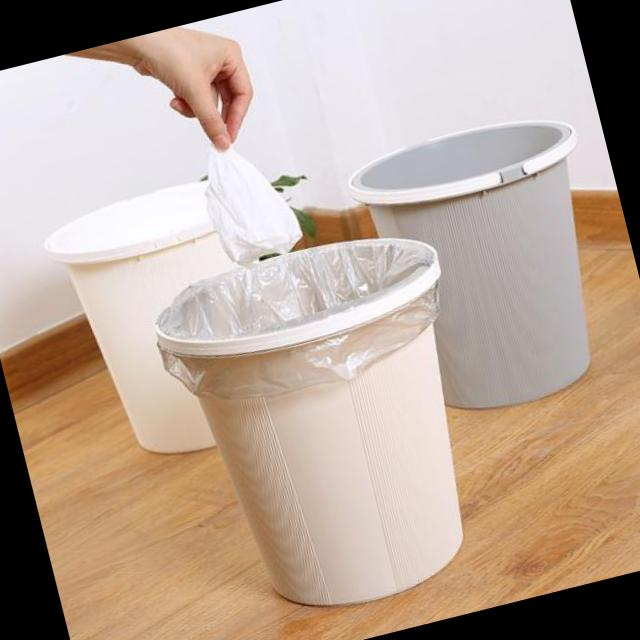dustbin: (137, 210, 523, 640), (332, 98, 640, 443), (31, 160, 314, 482)
